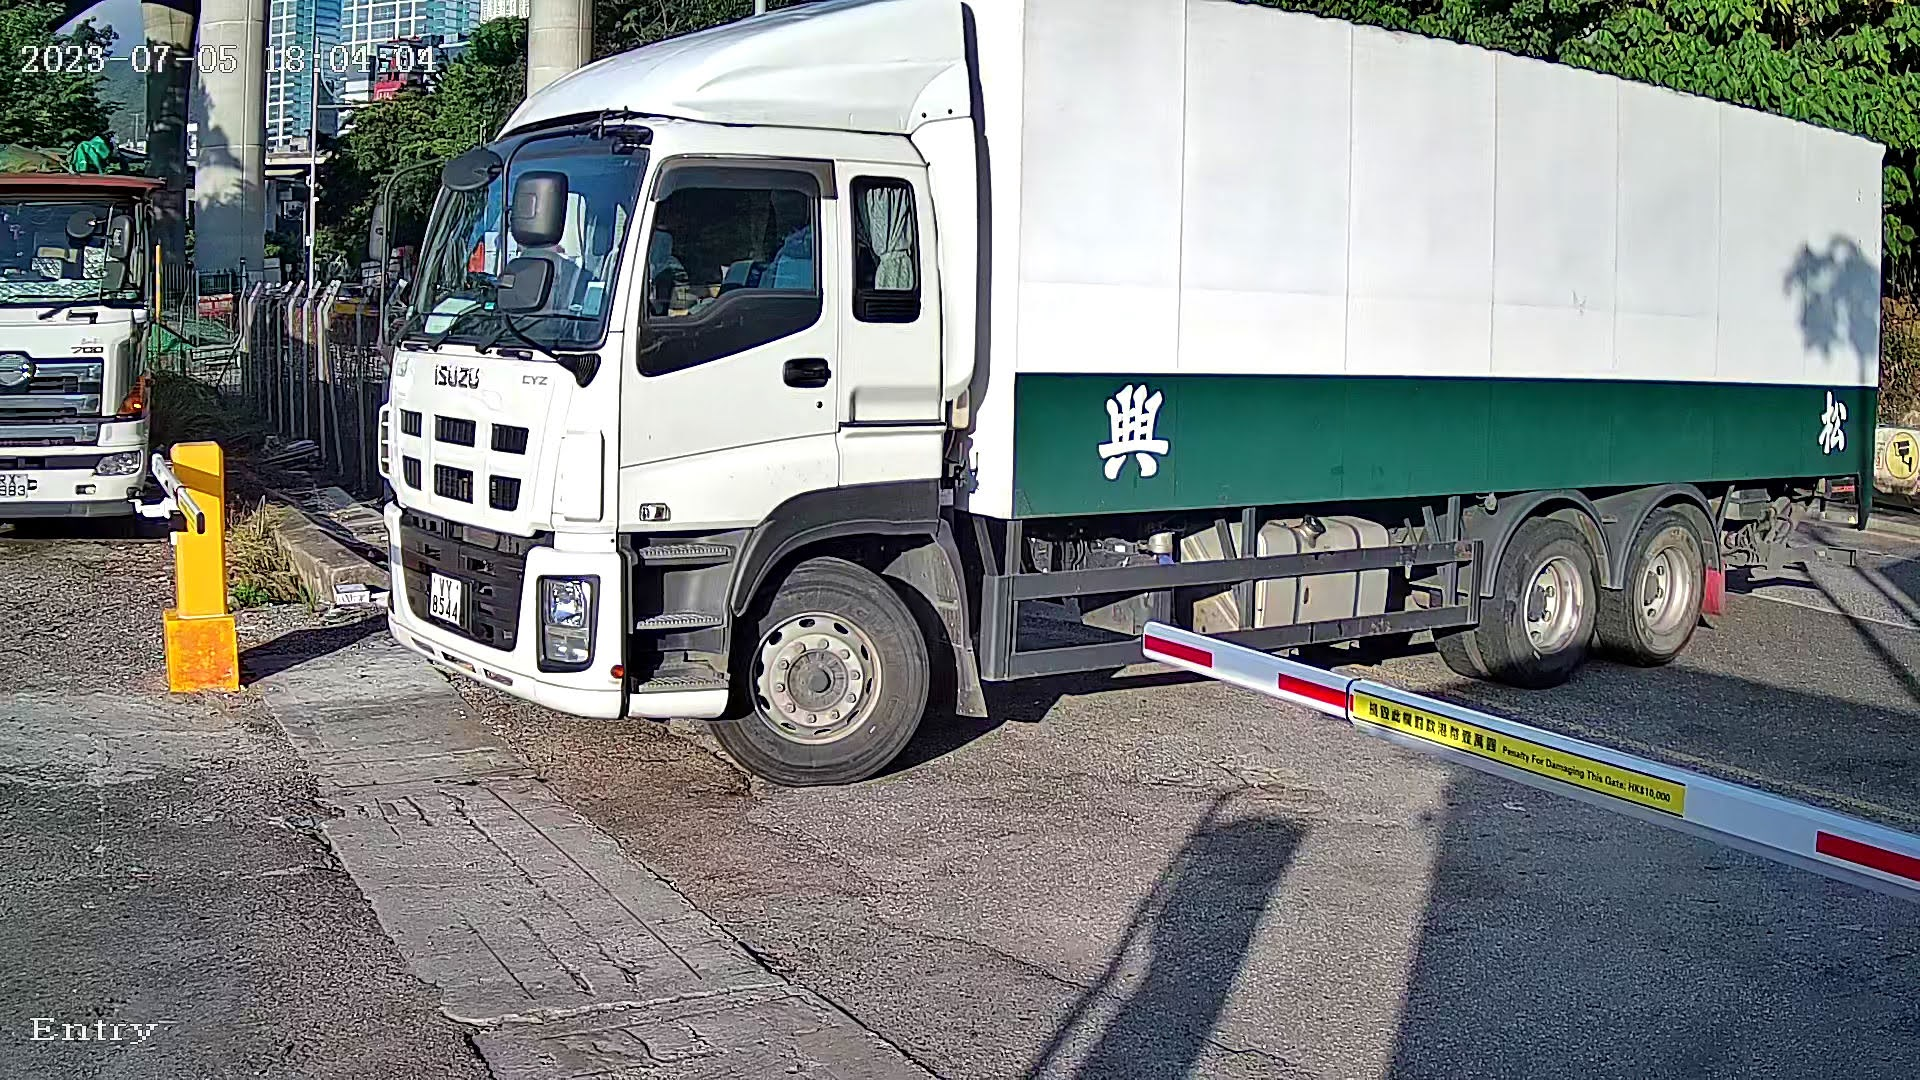truck_large: (336, 1, 1916, 837)
